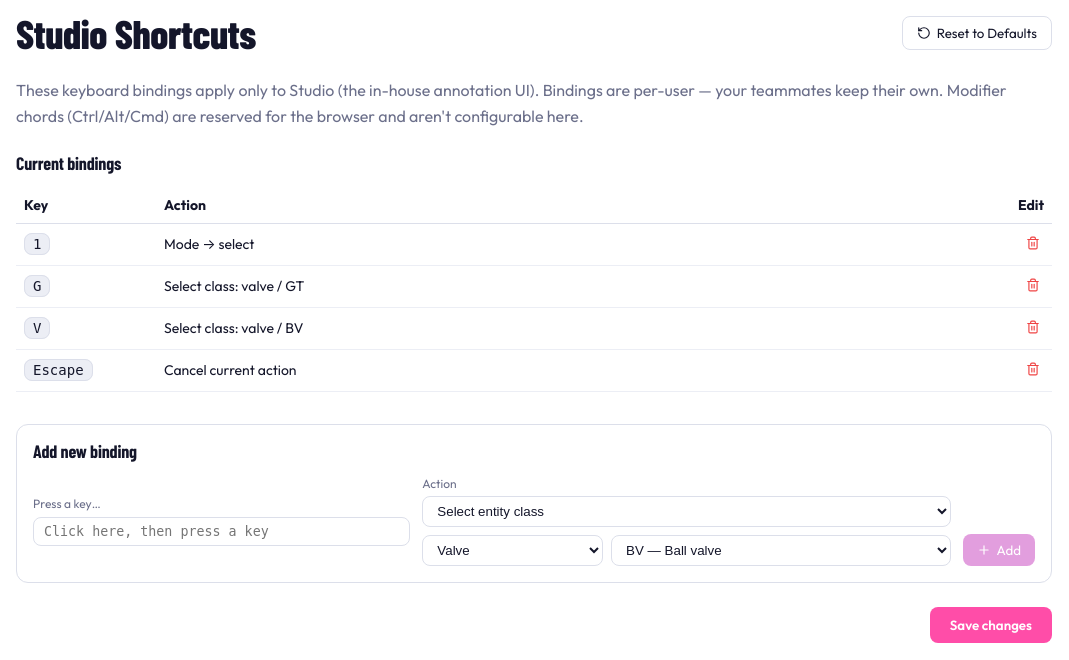
Test: Shortcuts page › delete button removes a binding from the local draft
Expected: the row with test id "shortcuts-row-v" is shown, [16, 308, 1052, 350]
Click the button with test id "shortcuts-delete-v" at (1033, 329), box [1022, 316, 1044, 341]
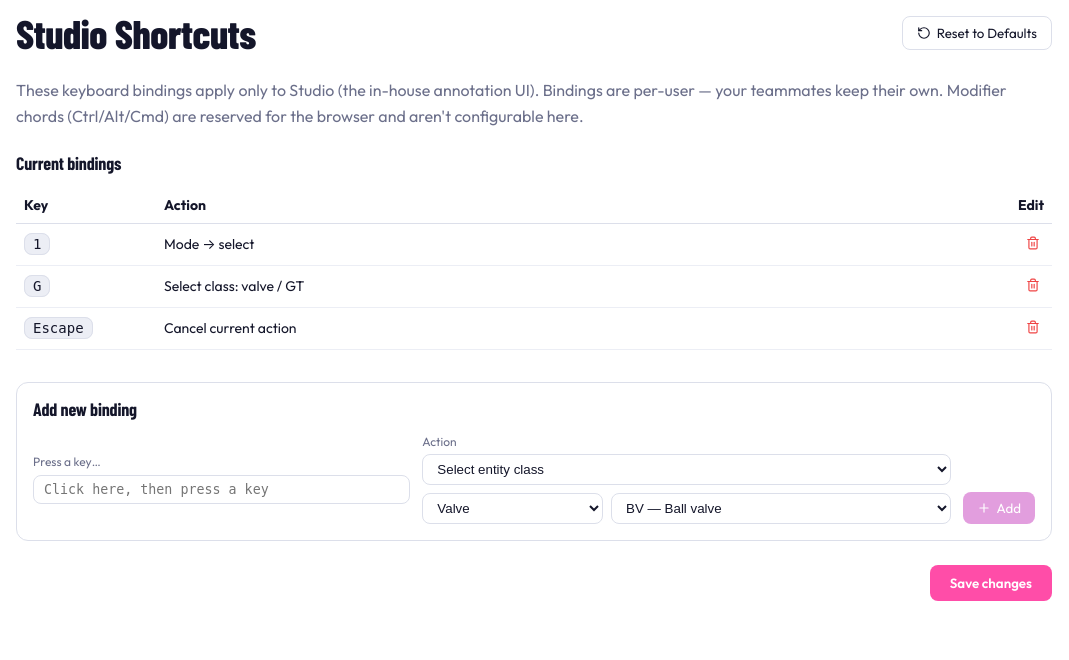
Expected: the row with test id "shortcuts-row-g" is shown, [16, 266, 1052, 308]
Expected: the row with test id "shortcuts-row-v" is gone
